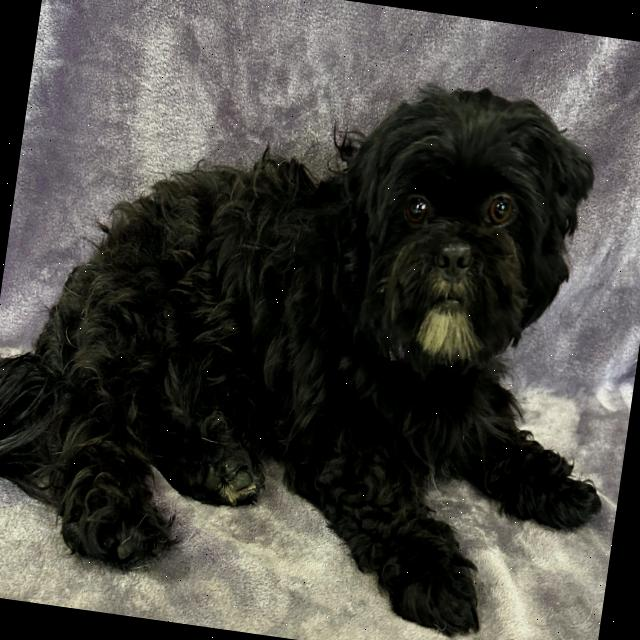shih_tzu_dog: (276, 51, 615, 410)
